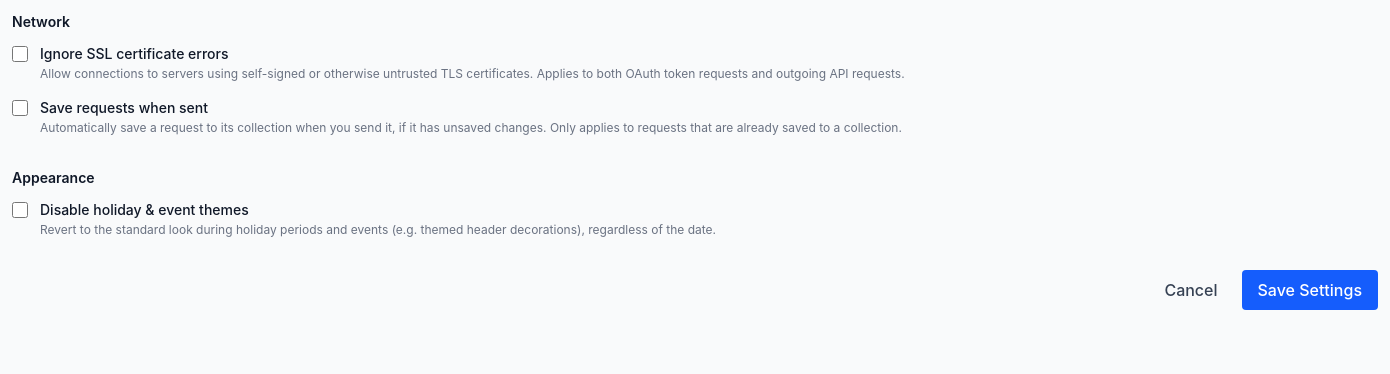
Test: GeneralSettingsForm › shows the security warning banner when insecureTls is toggled on
What coordinates should you click on to do the following:
click the checkbox labelled "Ignore SSL certificate errors"
I would click on:
 (20, 54)
Its box is [12, 46, 28, 62].
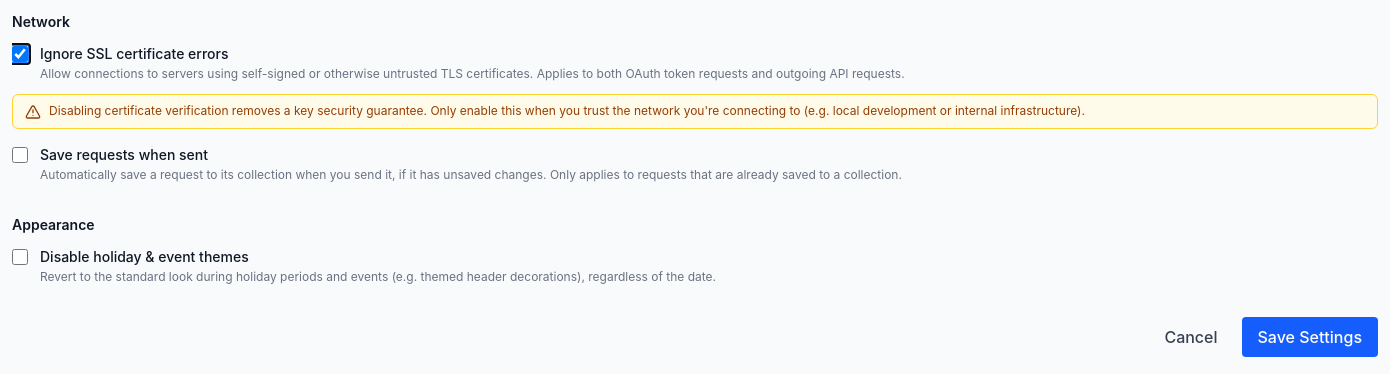
Result: the text "Disabling certificate verification" is shown at [49, 103, 1085, 118]
